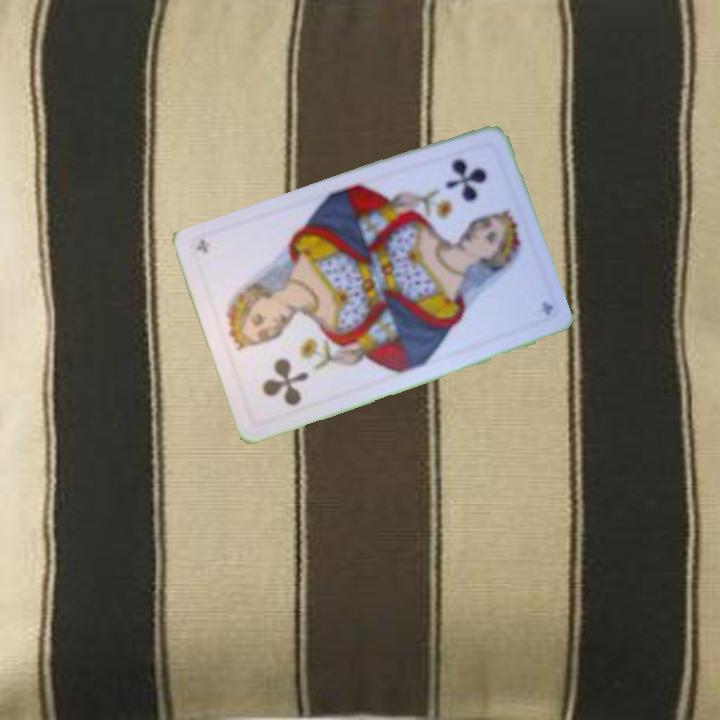c_q.png: (220, 305, 333, 426), (412, 137, 524, 259)
